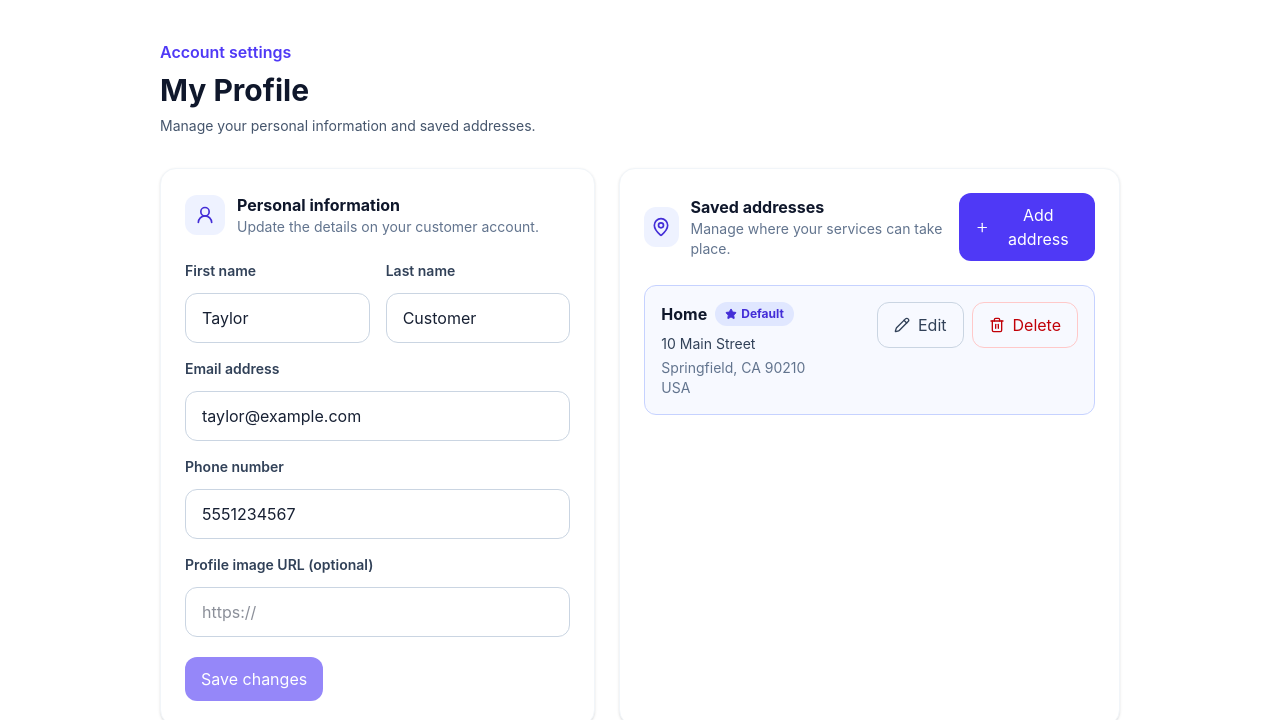
Test: CustomerProfilePage › shows API errors when saving profile information fails
The image size is (1280, 720).
Replace the text in the field labelled "First name" with "Morgan" at coordinates (277, 318), box [185,293,370,343]
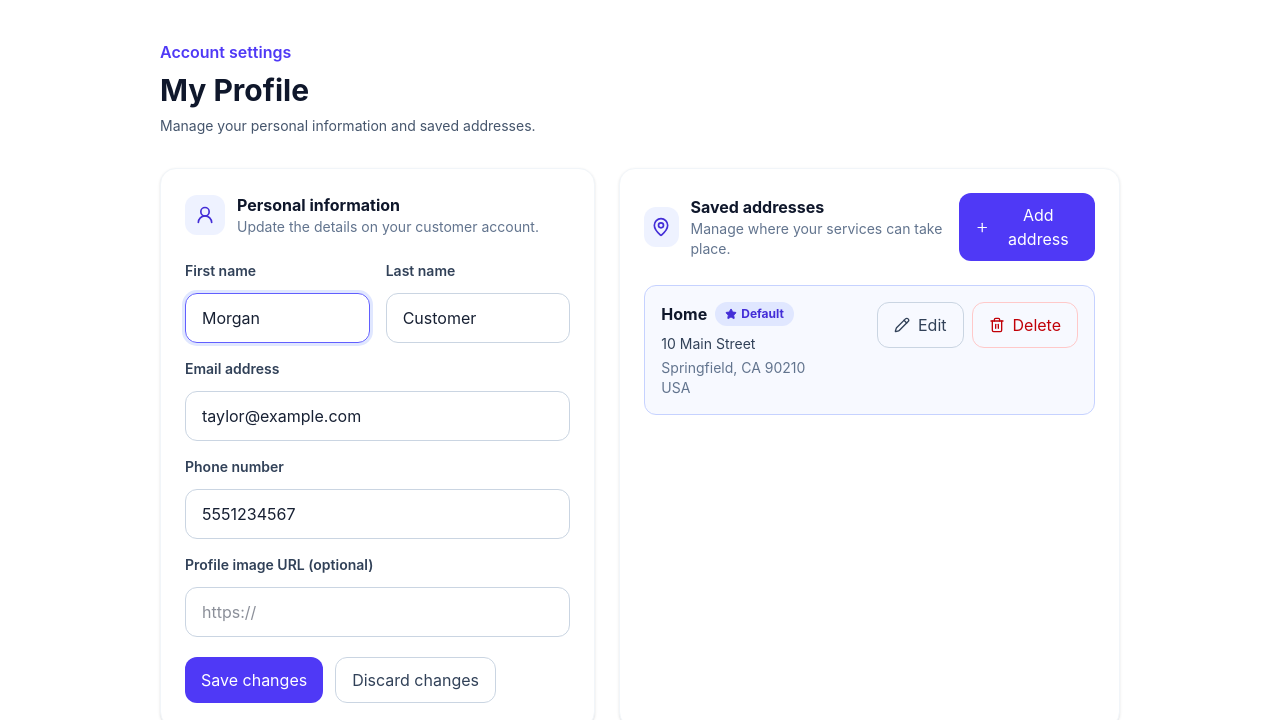
Click the button "Save changes" at coordinates (254, 680), box [185,657,323,703]
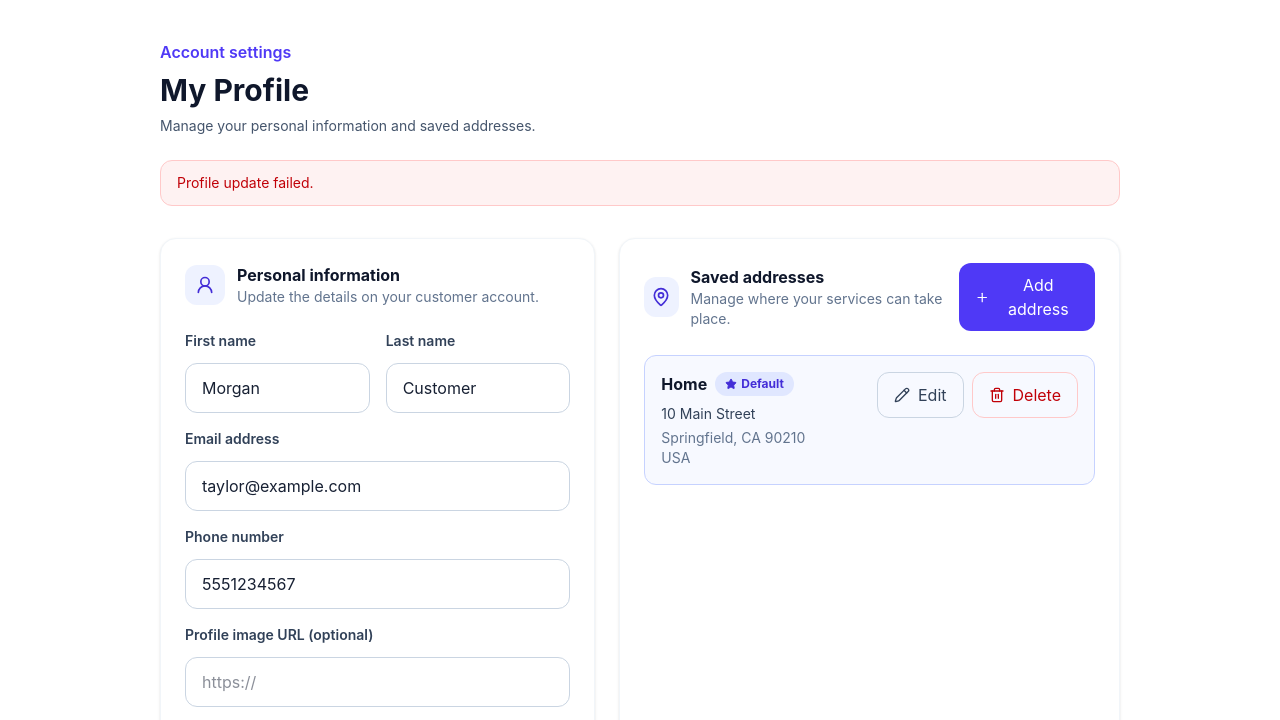
Expected: the message reads "Profile update failed.", [177,174,314,191]
